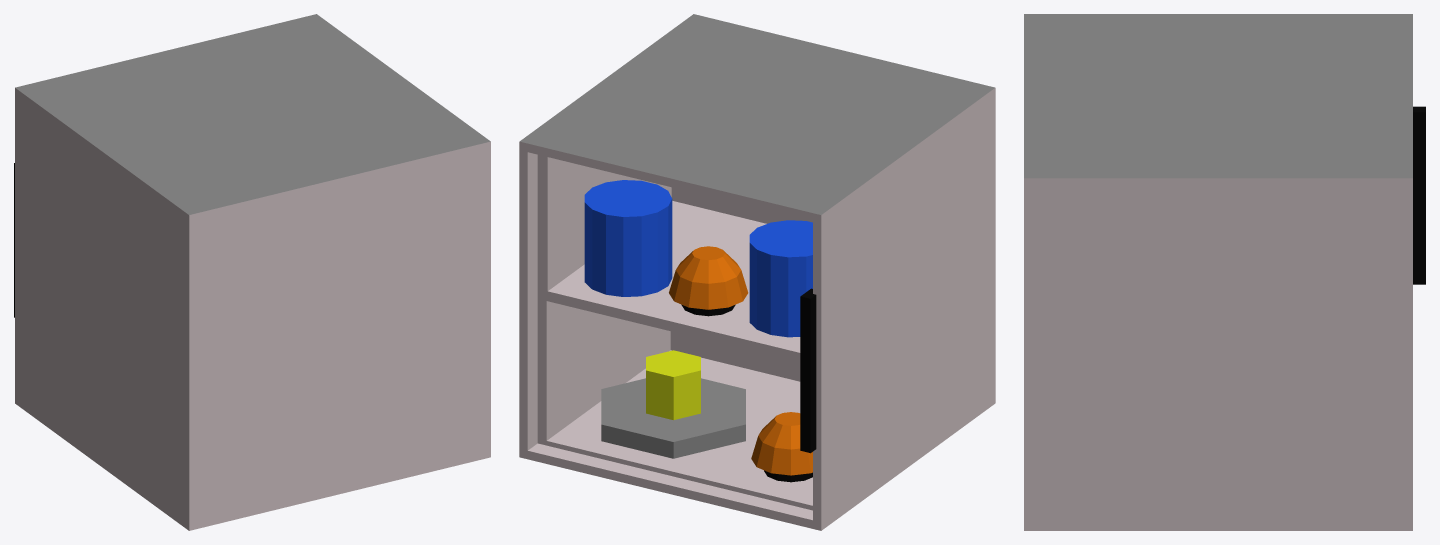
The model's file is furniture-fridge.glb.
3 views of the same model, side by side, from view 1: azimuth 30°, elevation 25°; view 2: azimuth 150°, elevation 25°; view 3: azimuth 270°, elevation 25° (orthographic). The views are drawn at different scales.
Parts seen in each view (by area): view 1: Fridge; view 2: Fridge; view 3: Fridge.
Boxes of the visible parts, x1=… form: Fridge: x1=14, y1=14, x2=490, y2=530; Fridge: x1=519, y1=14, x2=995, y2=530; Fridge: x1=1024, y1=14, x2=1425, y2=530.
Bounding box in the file's own units: 0.8 × 0.8 × 0.8262.
